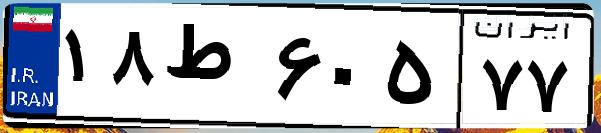0: (330, 28, 385, 110)
1: (57, 26, 110, 100)
5: (385, 28, 445, 110)
6: (270, 28, 330, 110)
7: (475, 38, 525, 113), (525, 38, 570, 115)
8: (110, 28, 158, 98)
ط: (158, 20, 270, 120)
